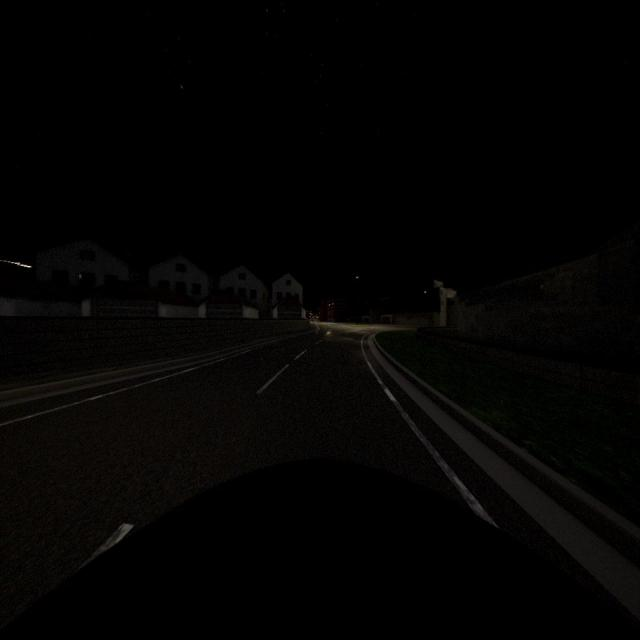Vehicle: (0, 462, 634, 636)
